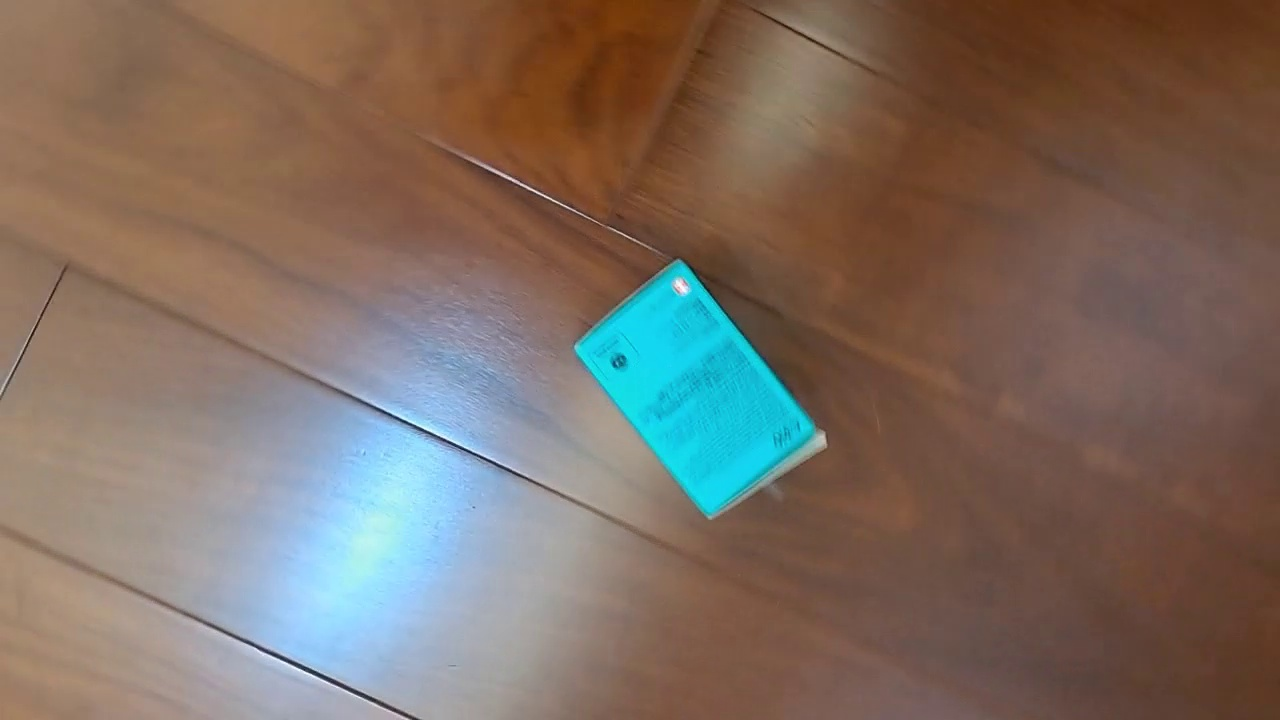webcam: (572, 256, 829, 523)
